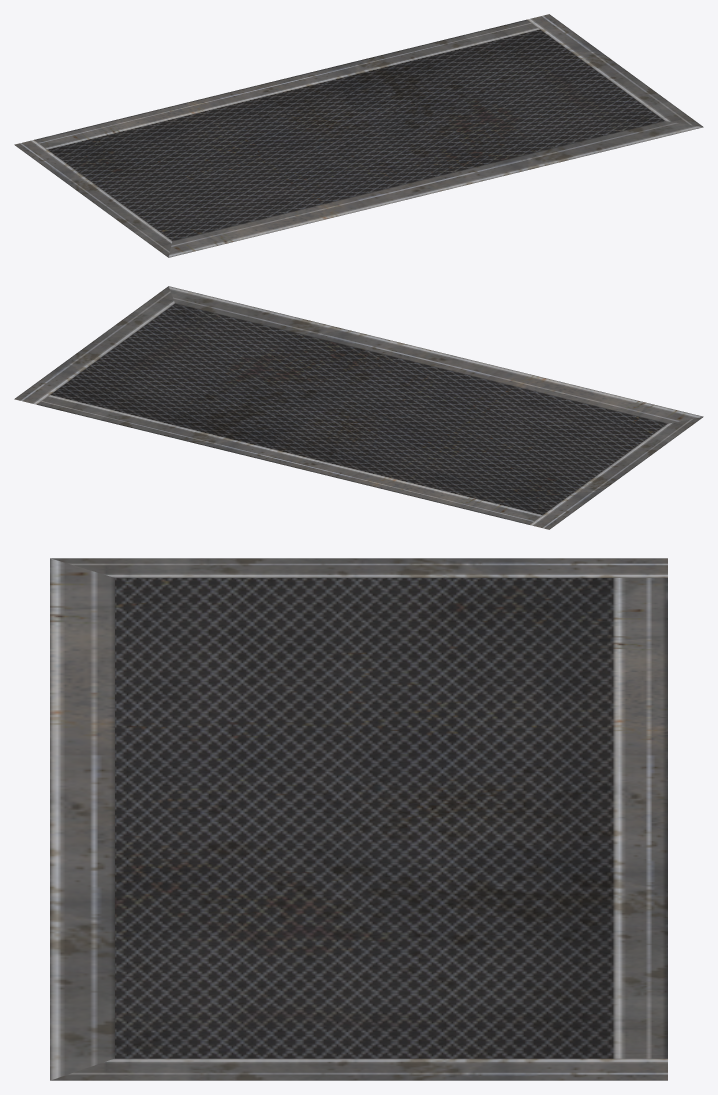
File: Floor_G_2'5qmts_04.fbx
3 views of the same model, one above another, from view 1: azimuth 30°, elevation 25°; view 2: azimuth 150°, elevation 25°; view 3: azimuth 270°, elevation 25° (orthographic). The views are drawn at different scales.
Visible parts, largest first — view 1: Floor_G_2'5qmts_04; view 2: Floor_G_2'5qmts_04; view 3: Floor_G_2'5qmts_04.
Part boxes in pixels (x1=…): Floor_G_2'5qmts_04: x1=14, y1=14, x2=703, y2=257; Floor_G_2'5qmts_04: x1=14, y1=286, x2=703, y2=529; Floor_G_2'5qmts_04: x1=50, y1=558, x2=667, y2=1080.
Size of the model in its own units: 200 by 0.000114 by 100.
Materials: 1 (1 with a texture image).
